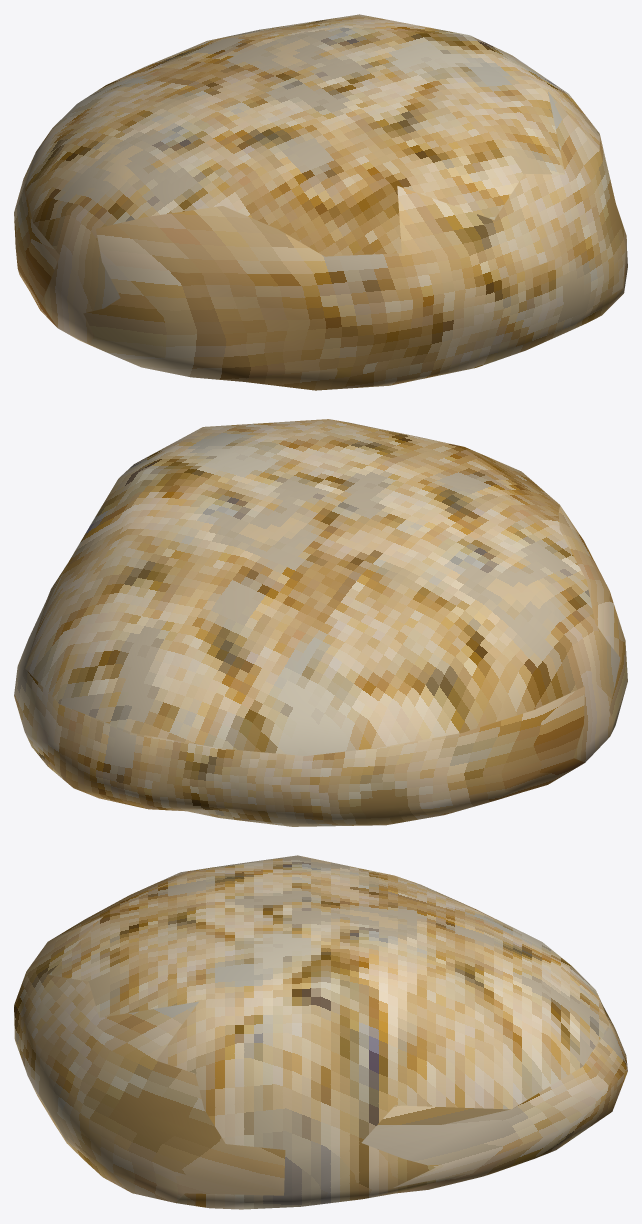
File: CookieDough.fbx
3 renders of one model, top to bottom at view 1: azimuth 30°, elevation 25°; view 2: azimuth 150°, elevation 25°; view 3: azimuth 270°, elevation 25°, orthographic. The views are drawn at different scales.
Parts seen in each view (by area): view 1: Dough001; view 2: Dough001; view 3: Dough001.
Part boxes in pixels (<box>): Dough001: <box>14,14,627,390</box>; Dough001: <box>14,419,627,826</box>; Dough001: <box>14,855,627,1209</box>.
Size of the model in its own units: 43.71 by 17.02 by 47.73.
